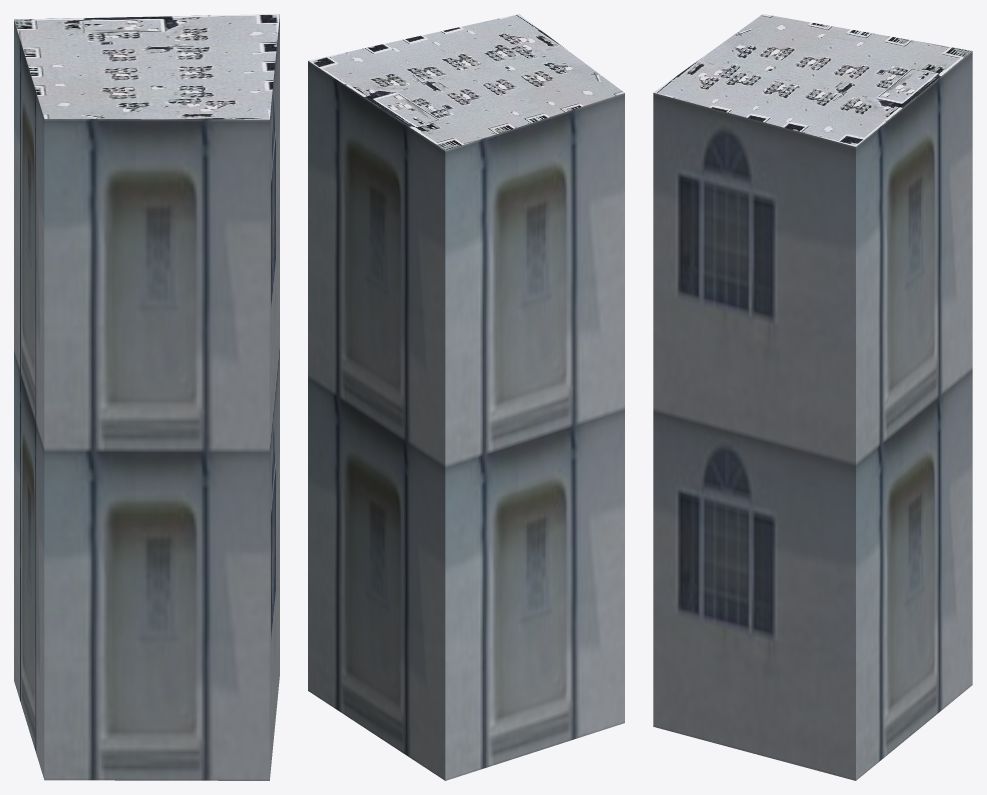
Rendered from ResTex__2244.fbx.
3 renders of one model, left to right at view 1: azimuth 30°, elevation 25°; view 2: azimuth 150°, elevation 25°; view 3: azimuth 270°, elevation 25°, orthographic. The views are drawn at different scales.
Visible parts, largest first — view 1: CityEngineMaterial_17_m, CityEngineMaterial_m; view 2: CityEngineMaterial_17_m, CityEngineMaterial_m; view 3: CityEngineMaterial_17_m, CityEngineMaterial_m.
Boxes of the visible parts, x1,y1,x2,y2 form: CityEngineMaterial_17_m: (14, 15, 279, 780); CityEngineMaterial_m: (14, 14, 279, 119); CityEngineMaterial_17_m: (308, 61, 624, 780); CityEngineMaterial_m: (308, 14, 624, 150); CityEngineMaterial_17_m: (653, 51, 972, 780); CityEngineMaterial_m: (653, 14, 971, 146).
Size of the model in its own units: 2.7 by 6 by 2.74.
2 materials, 2 textured.
